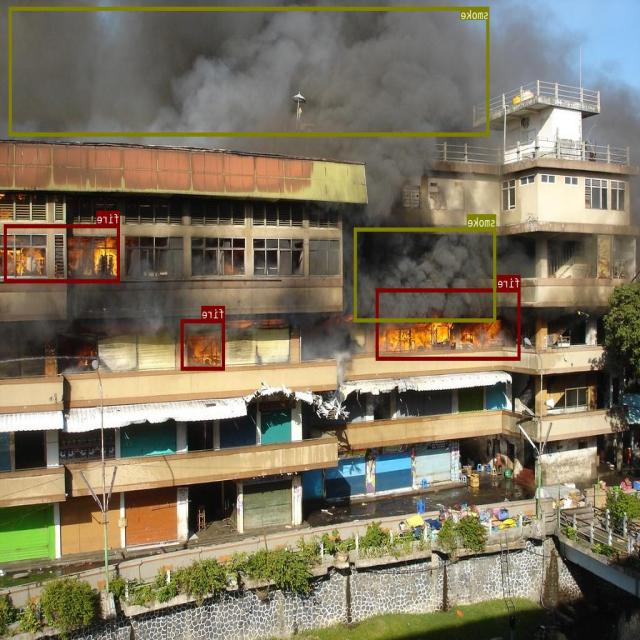fire: (376, 288, 521, 360), (5, 224, 120, 282), (182, 318, 225, 369)
smoke: (9, 6, 490, 136), (354, 228, 496, 322)
